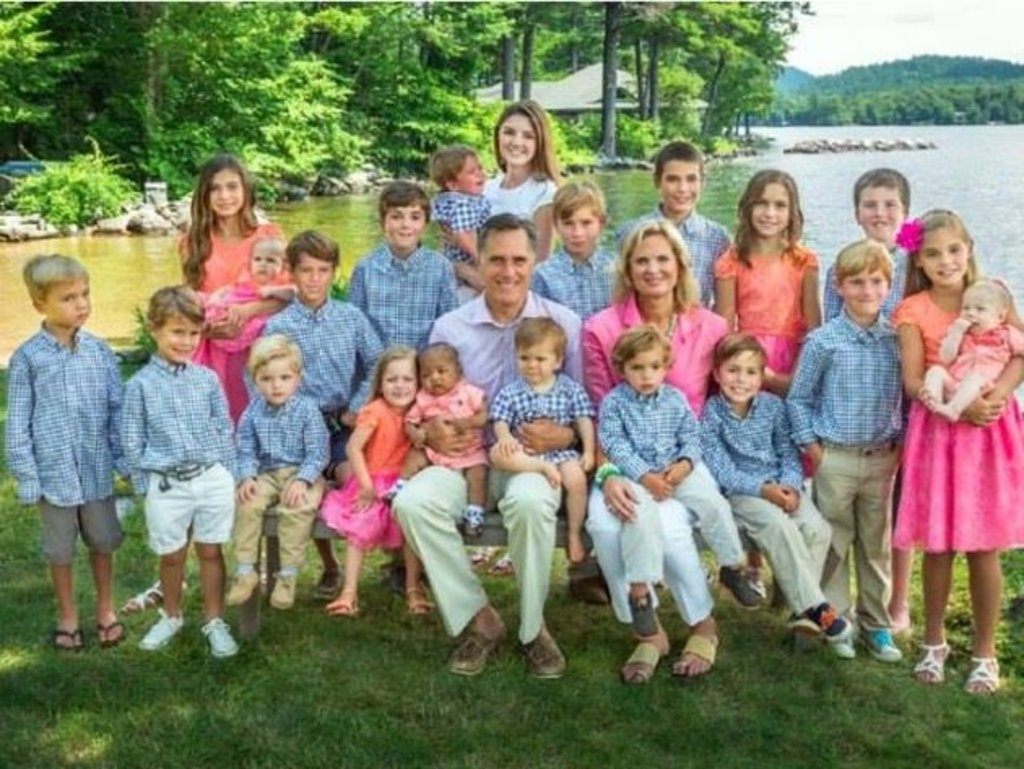Person: (4, 99, 1023, 695)
